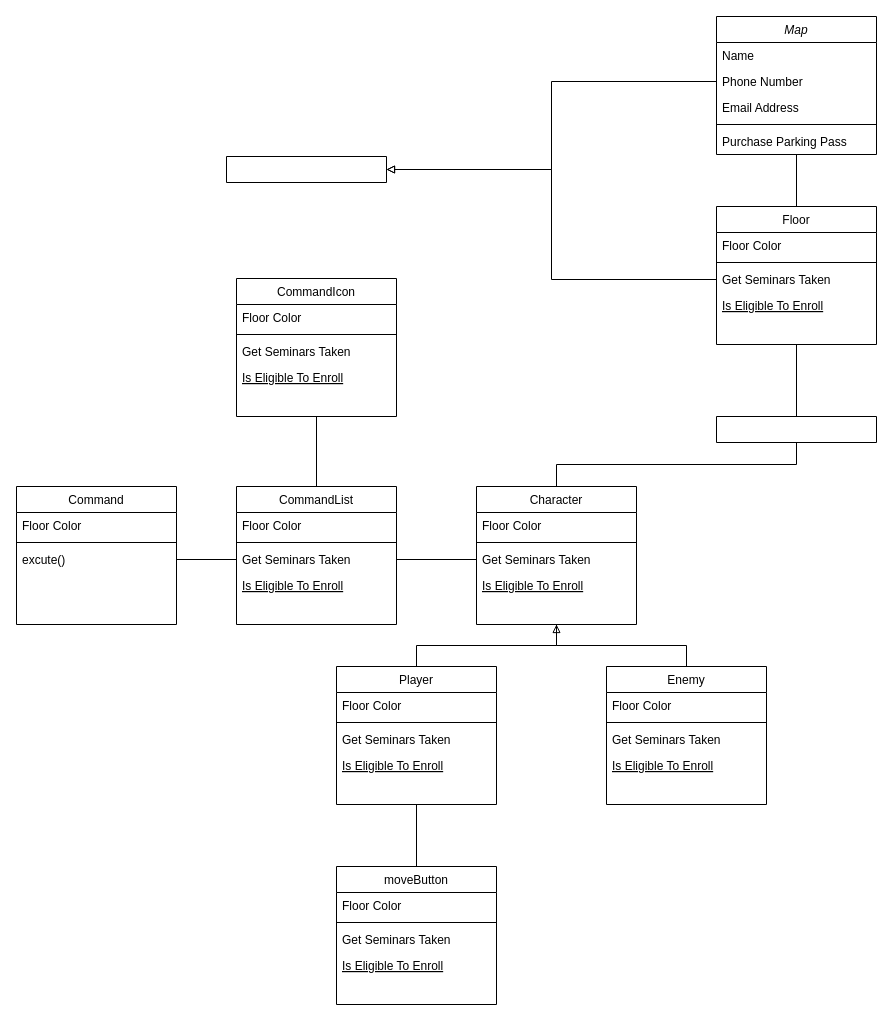
Image size: 893x1021. Some labels were removed from this diagram. The centre of each missing label's shape, as x and y in pixels:
"GameObject" belongs at pixel 796 429.
"MonoBehaviour" belongs at pixel 306 169.
